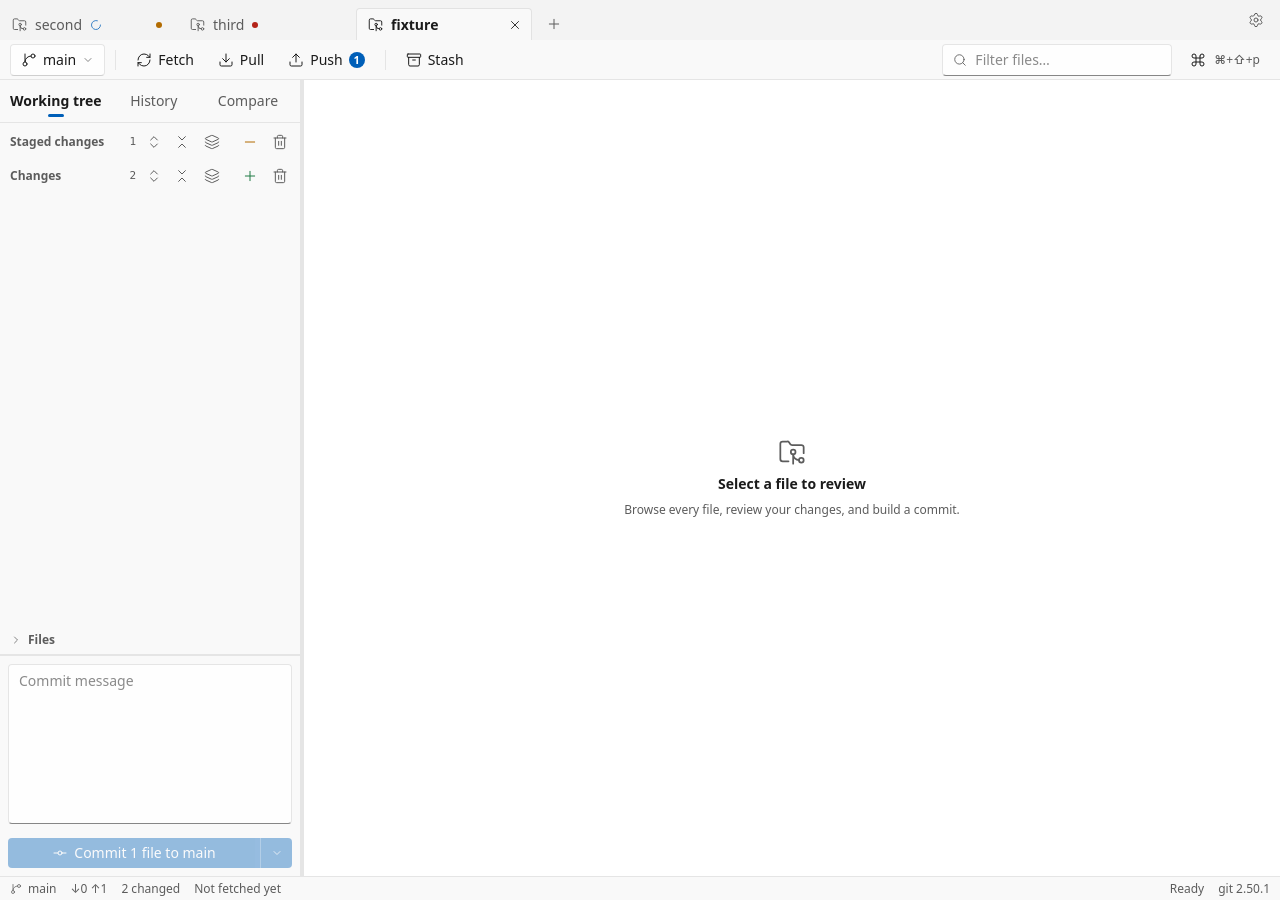
it: application shell › switches between open repositories from the palette in recent order
Press F2
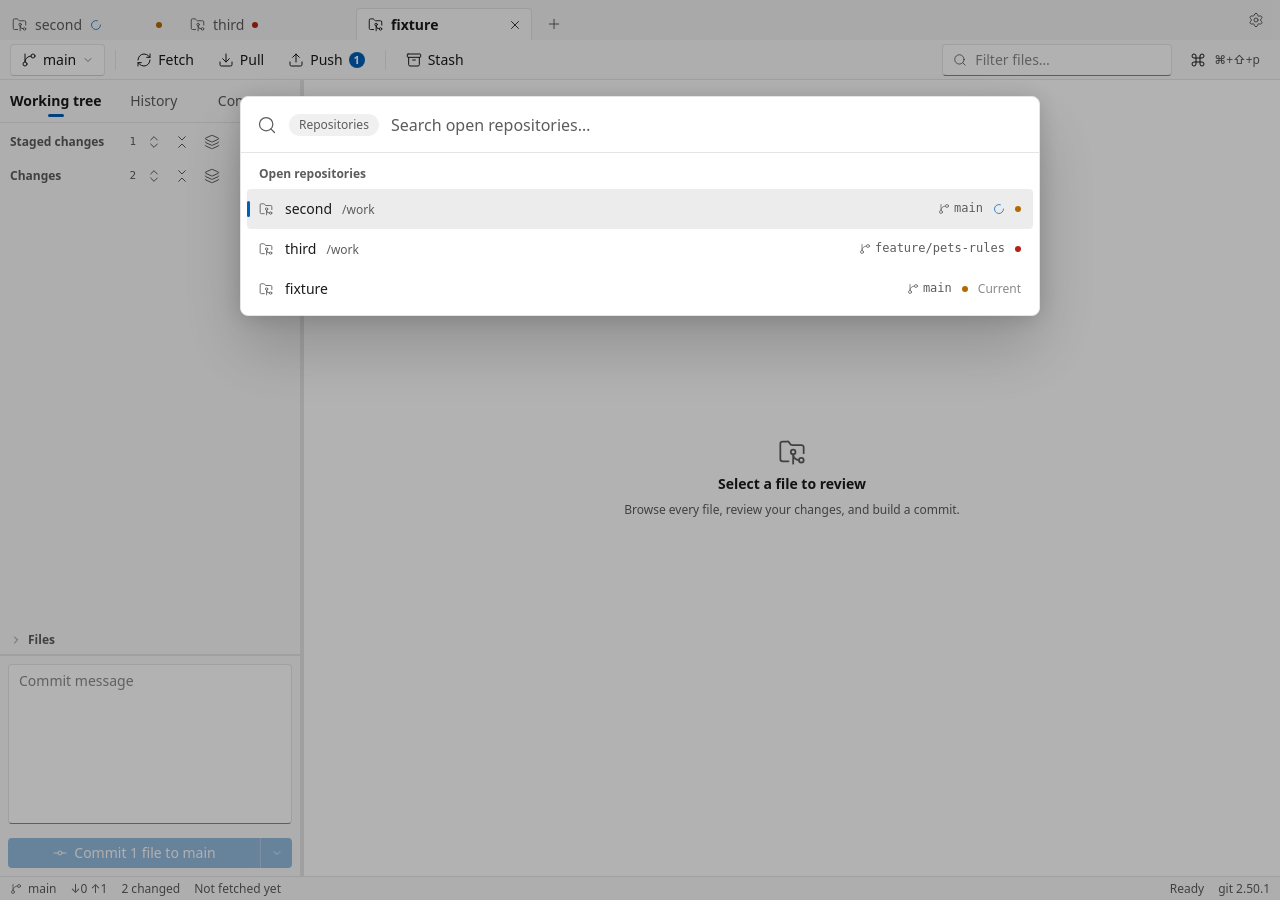
Check: the button "second /work main" is shown, box [247,189,1033,229]
Check: the picture named "Git operation running" is shown, box [993,203,1005,215]
Check: the picture named "Errors waiting" is shown, box [1015,246,1021,252]
In the field named "Find repository": (709, 124) [391,112,1027,136], type "zzz"
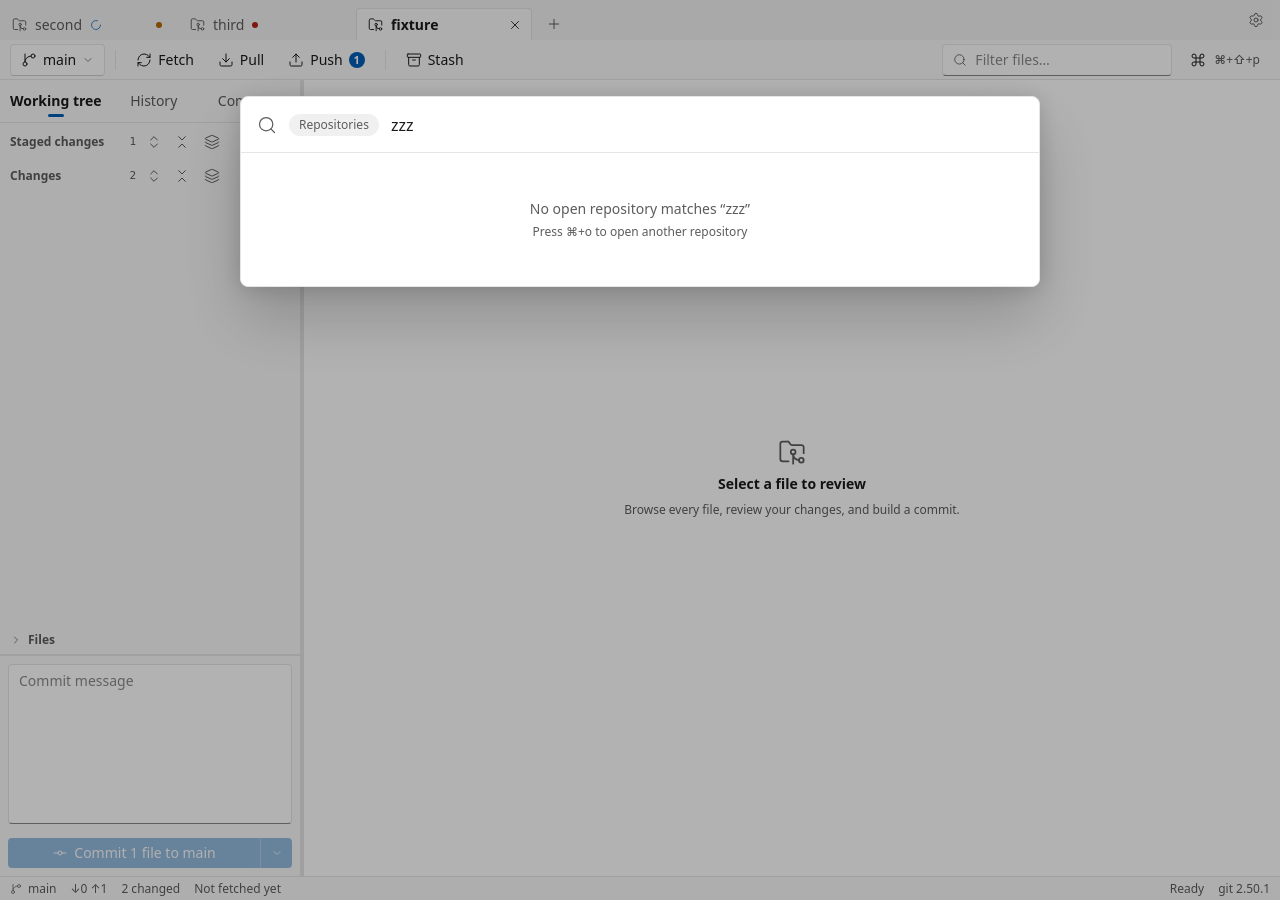
Check: the text "No open repository matches “zzz”" is shown, box [530,199,750,218]
Check: the text "Press ⌘+o to open another repository" is shown, box [532,223,747,240]
Replace the text in the field named "Find repository" with "pets": (709, 124) [391,112,1027,136]
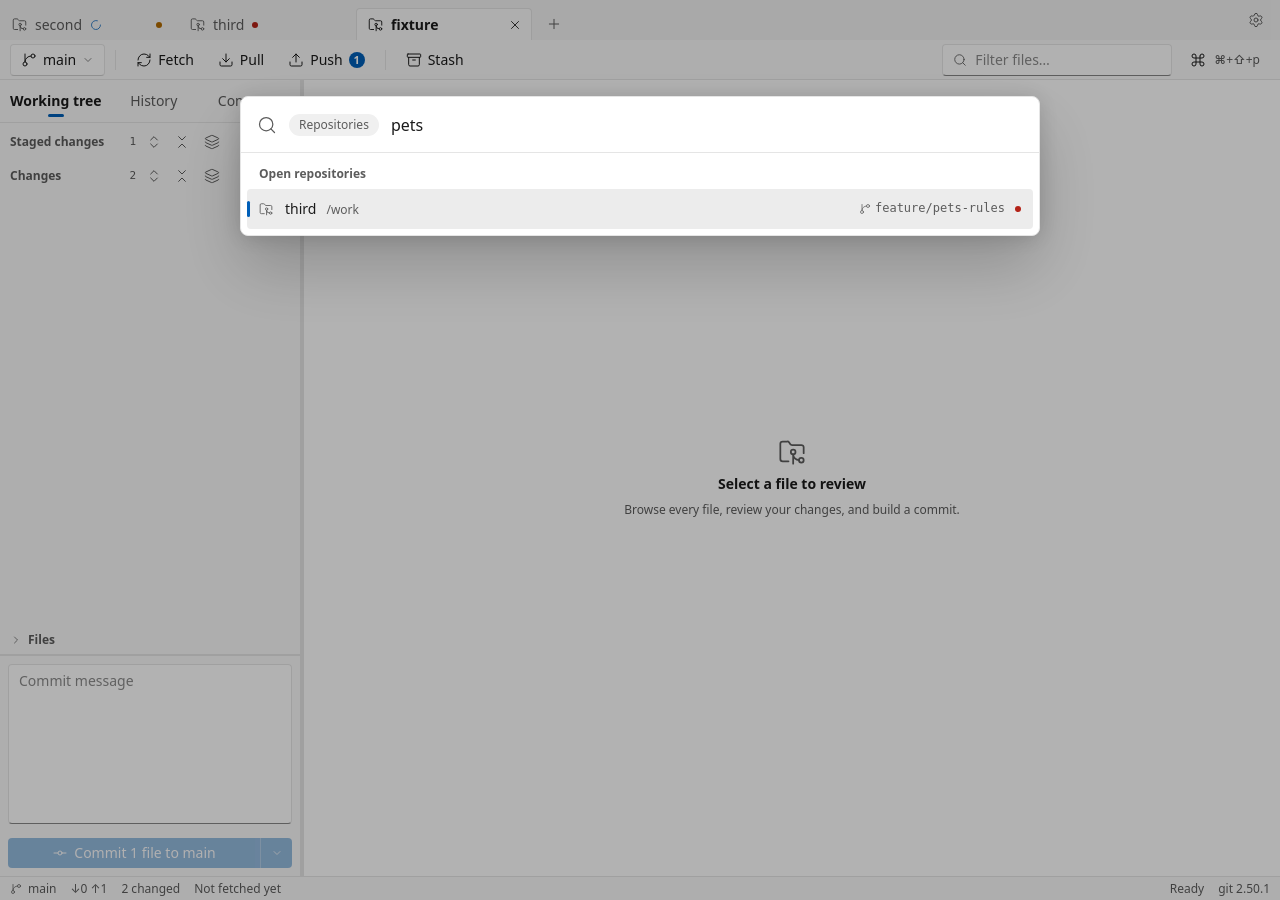
Press Enter in the field named "Find repository", box [391,112,1027,136]
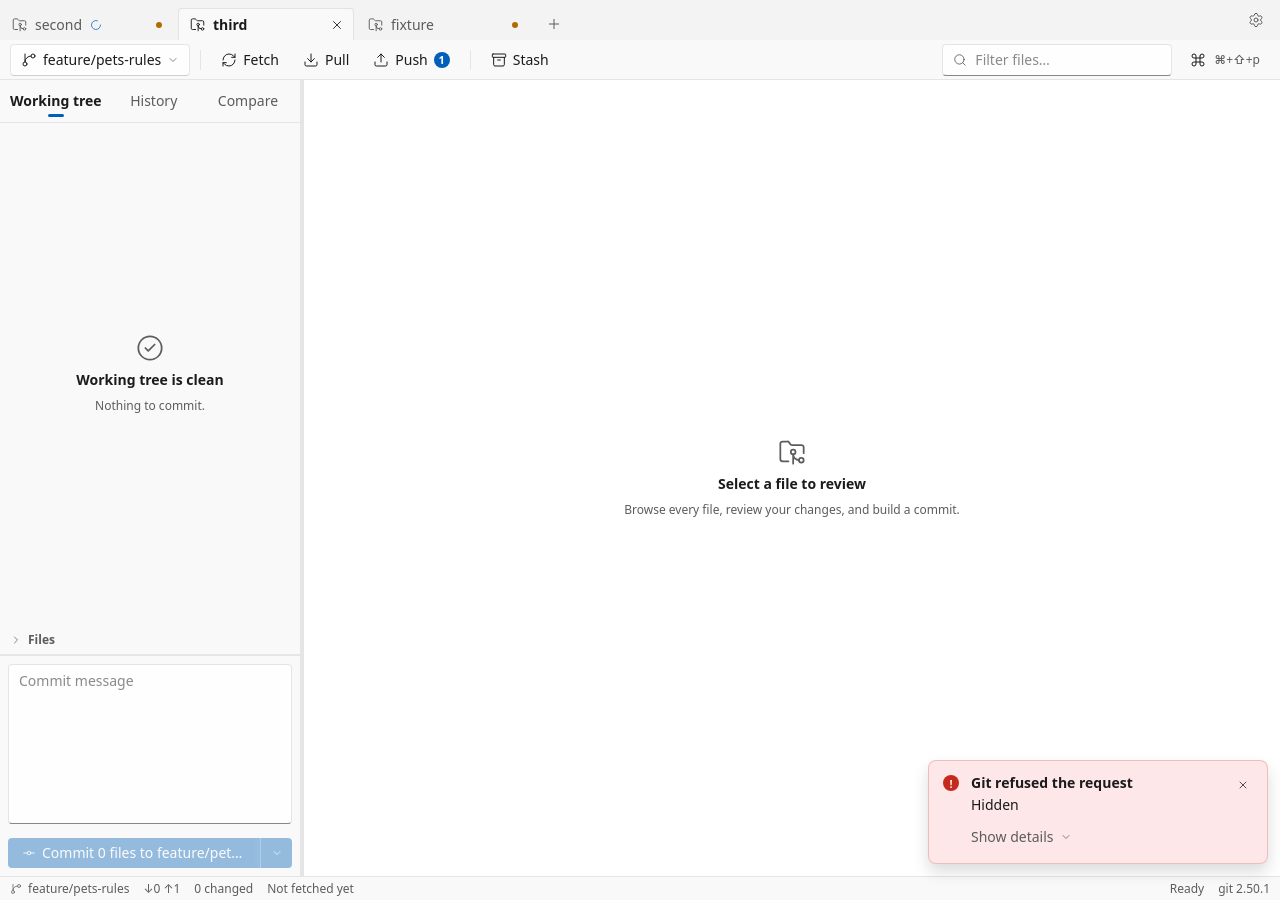
Check: the dialog is gone
